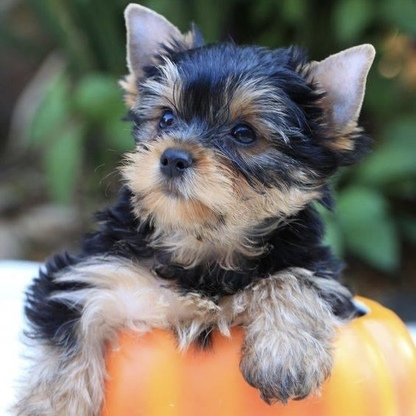yorkshire: (35, 3, 372, 393)
